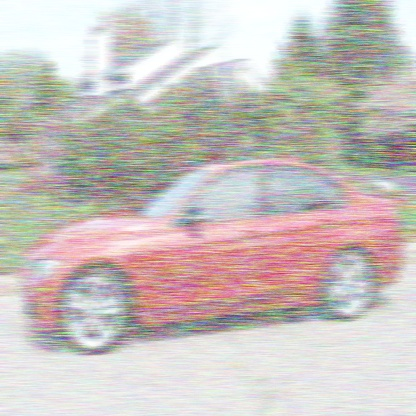Vehicle: (20, 156, 405, 356)
